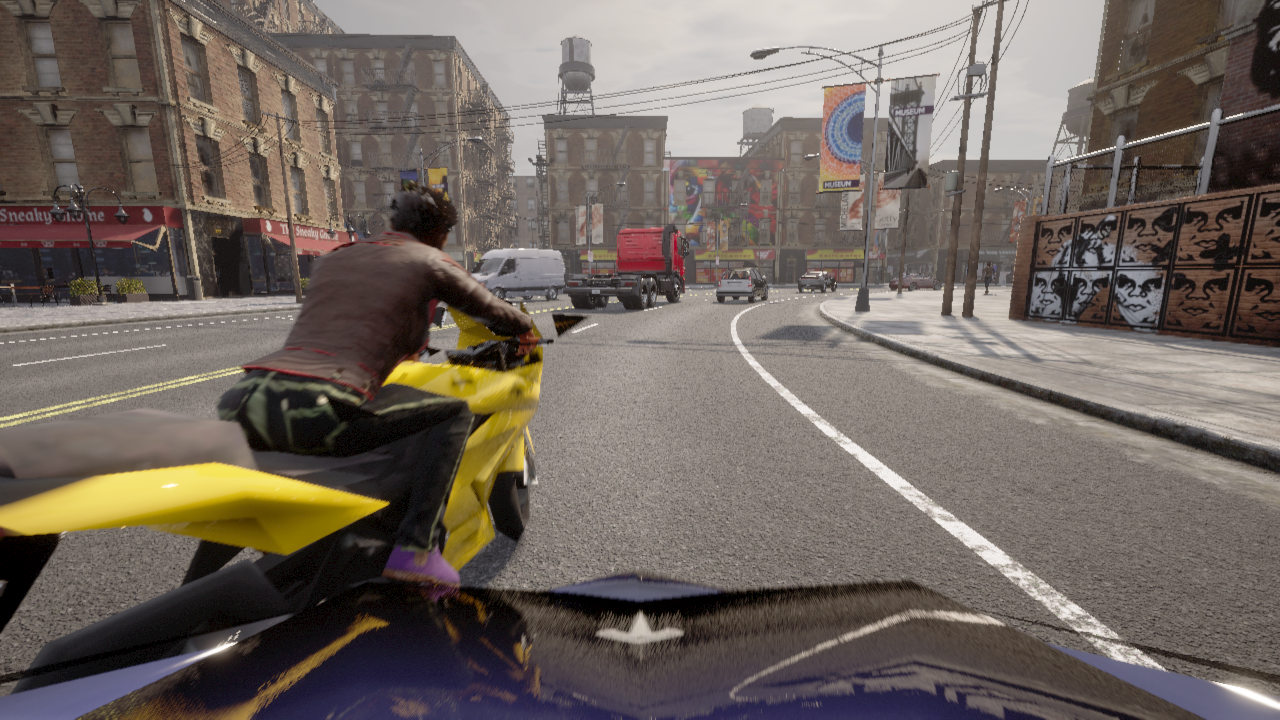cyclist: (0, 296, 590, 694), (0, 569, 1279, 719), (563, 224, 688, 309), (470, 248, 565, 300), (716, 268, 767, 302), (889, 273, 941, 290), (798, 272, 836, 292)
pedestrian: (982, 262, 994, 294)
